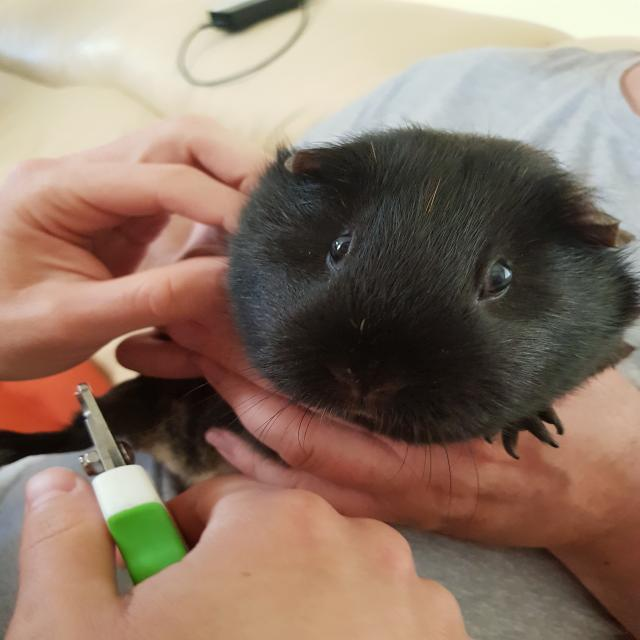guinea pig: (1, 118, 636, 478)
